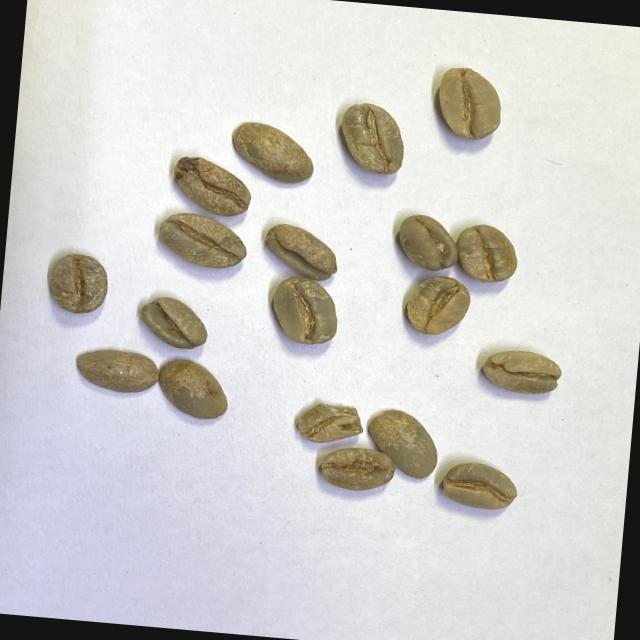bad: (168, 154, 255, 218), (258, 220, 344, 282), (392, 210, 461, 272), (316, 444, 395, 493), (296, 400, 366, 448)
good: (226, 117, 318, 186), (156, 208, 250, 270), (364, 406, 442, 480), (266, 275, 344, 347), (339, 100, 409, 176), (435, 65, 505, 141), (156, 357, 234, 424), (399, 270, 471, 340), (72, 346, 160, 396), (46, 251, 111, 316), (442, 459, 518, 514), (481, 347, 564, 397), (454, 222, 520, 284), (137, 296, 212, 350)
